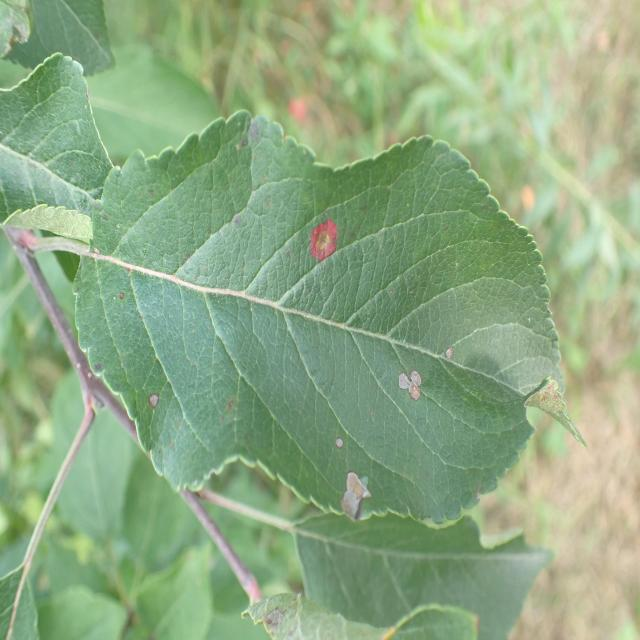rust: (72, 110, 586, 528)
